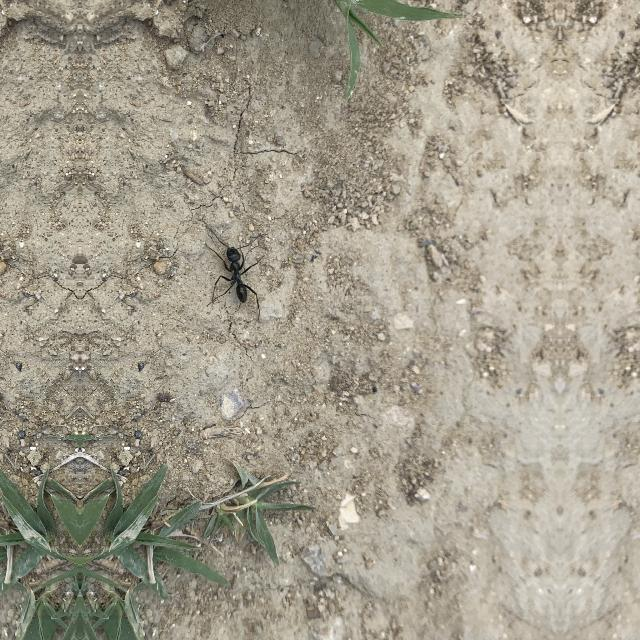Cataglyphis: (212, 232, 262, 314)
